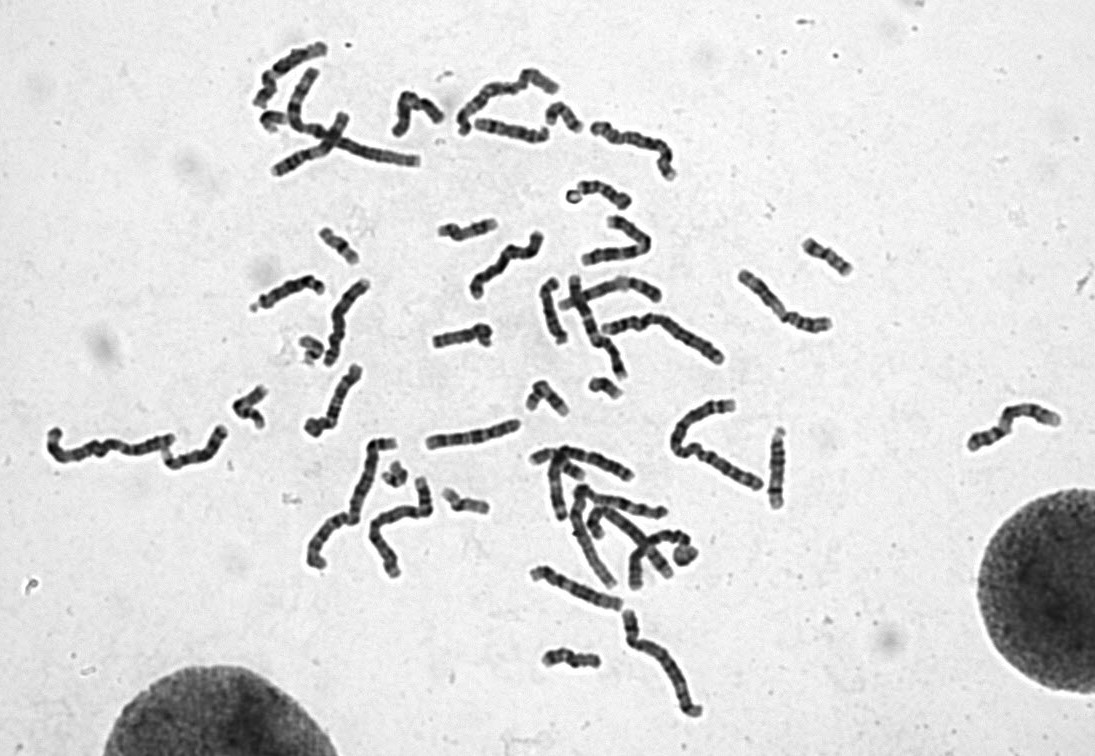chromosomes: (287, 69, 430, 175), (300, 436, 401, 572), (619, 607, 712, 727), (571, 485, 670, 592), (670, 398, 763, 495), (455, 65, 562, 141), (366, 476, 437, 581), (600, 314, 732, 370), (586, 505, 678, 582), (547, 445, 635, 525), (568, 273, 633, 381), (736, 269, 837, 336), (465, 227, 547, 307), (243, 40, 331, 113), (270, 107, 361, 177), (961, 400, 1063, 462), (590, 120, 679, 189), (41, 425, 179, 466), (295, 363, 366, 441), (524, 564, 627, 616), (627, 528, 701, 596), (323, 276, 376, 370), (557, 275, 667, 314), (580, 216, 657, 269), (420, 416, 523, 455), (246, 273, 327, 320), (156, 423, 229, 473), (385, 91, 447, 140), (535, 272, 570, 347), (472, 117, 554, 148), (527, 445, 591, 484), (801, 236, 857, 280), (574, 180, 639, 216), (230, 382, 277, 431), (317, 222, 363, 272), (524, 379, 572, 425), (434, 214, 503, 245), (429, 322, 495, 352), (768, 426, 790, 515), (542, 99, 591, 138), (439, 483, 492, 518), (540, 647, 608, 674), (296, 335, 329, 371), (379, 458, 412, 492), (258, 111, 293, 142), (585, 377, 625, 404)
